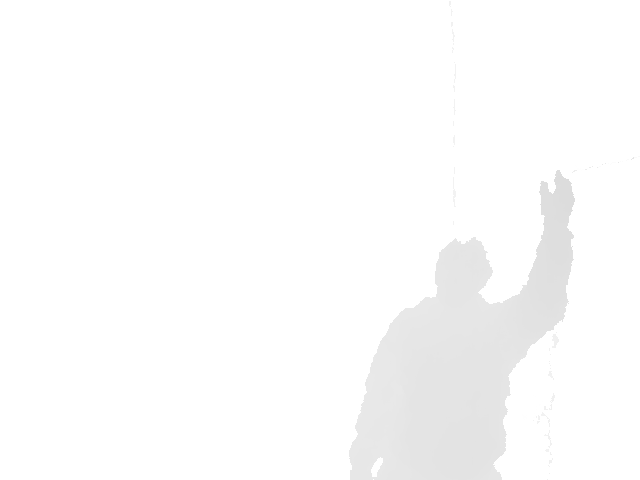hand: (538, 169, 576, 222)
head: (434, 238, 495, 298)
person: (347, 169, 576, 479)
